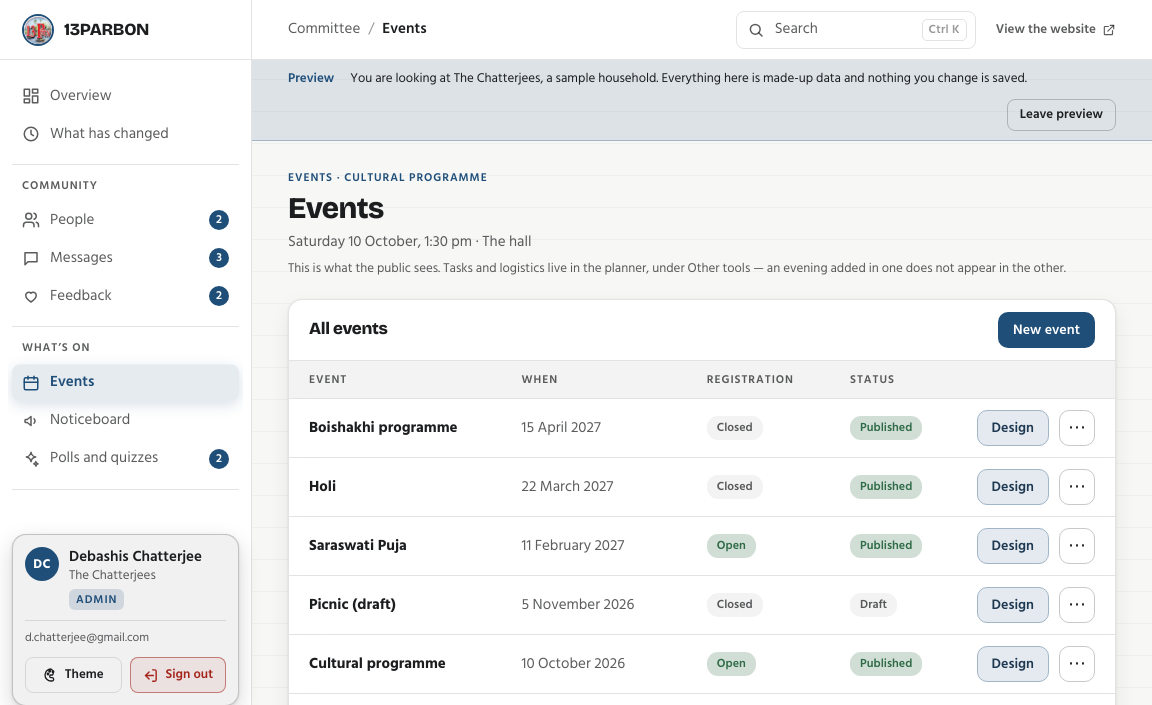
previewing from the event designer › waits for a name and a start time before it can show the page
Click the button "New event" at (1046, 330), box [998,312,1095,348]
(page scrolled)
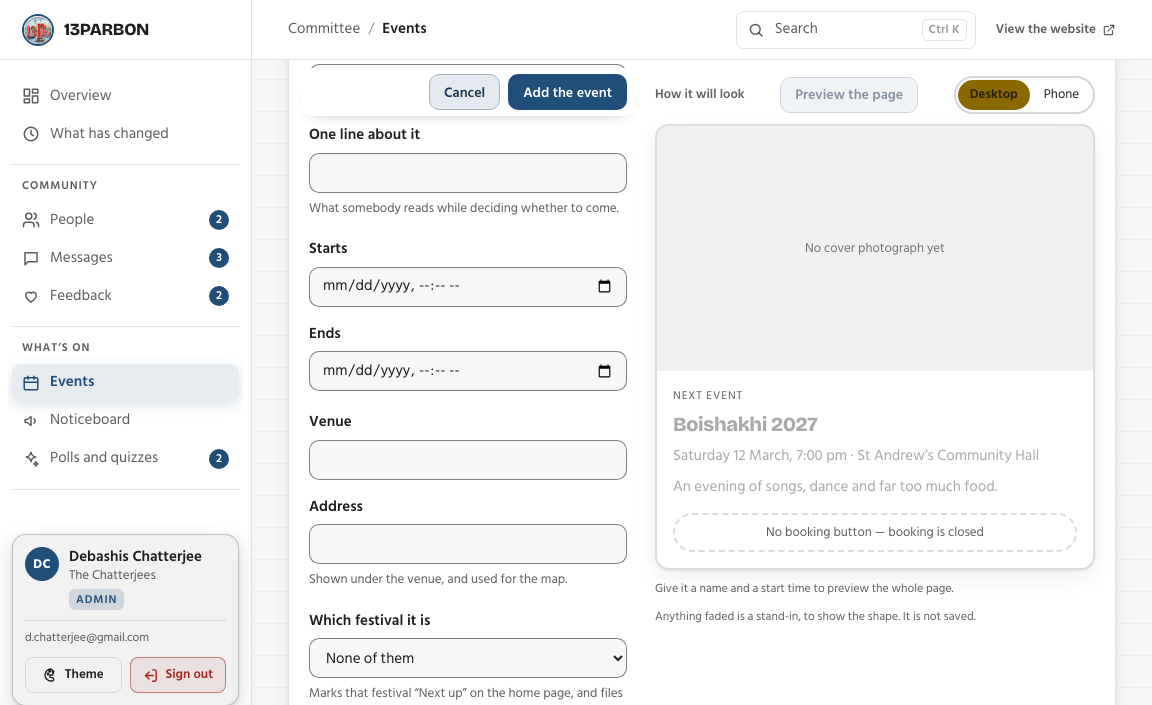
expect the button "Preview the page" is disabled: met, box [780,77,918,113]
expect the text "Give it a name and a start time to preview the whole page." is shown: met, box [655,579,954,598]
